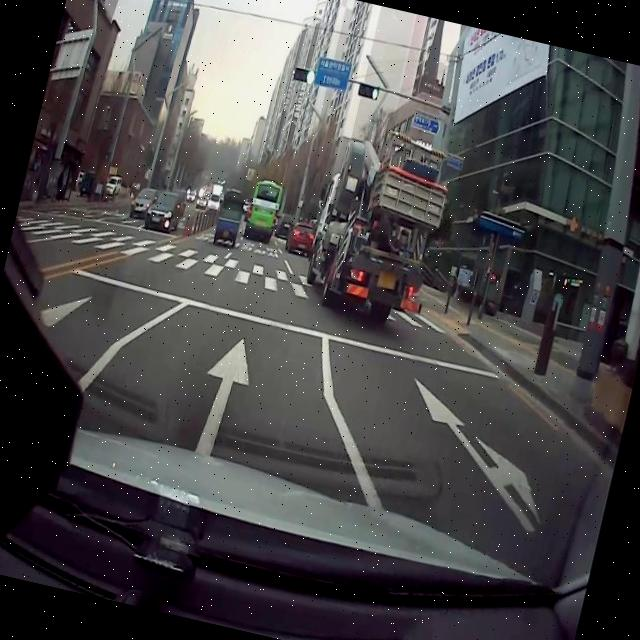crosswalk: (18, 213, 450, 334)
